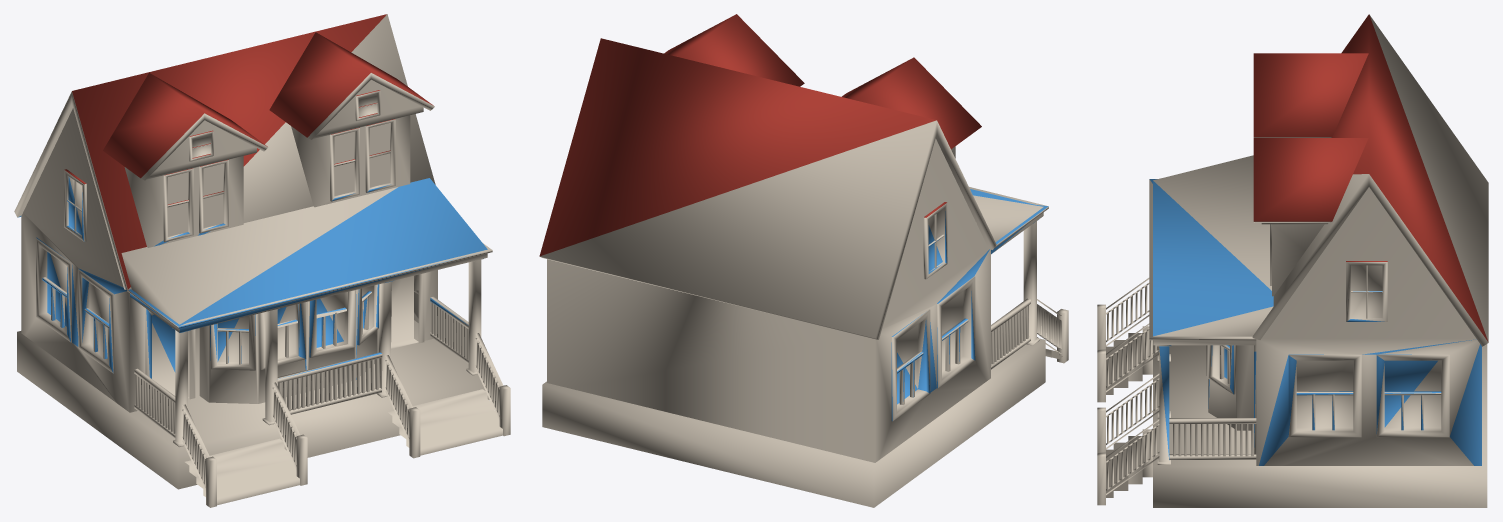
Rendered from building_apt.obj.
3 renders of one model, left to right at view 1: azimuth 30°, elevation 25°; view 2: azimuth 150°, elevation 25°; view 3: azimuth 270°, elevation 25°, orthographic. The views are drawn at different scales.
Bounding box in the file's own units: 5.2 × 5.08 × 5.38.
